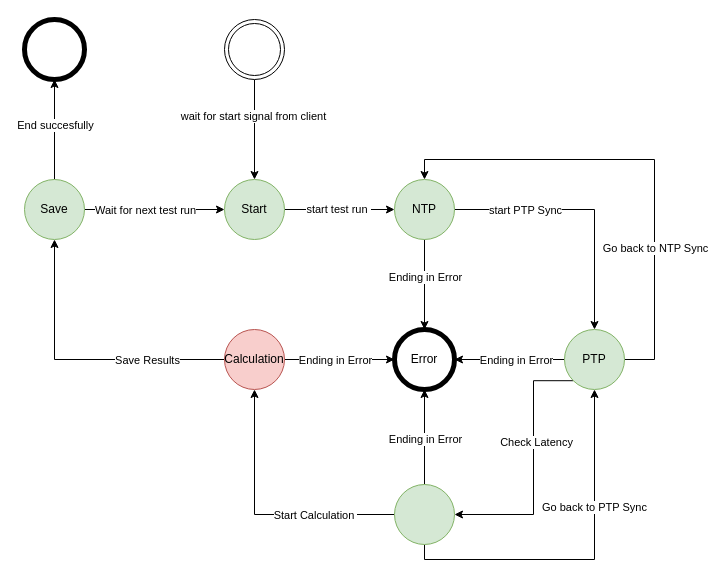
Some shapes in this 725 by 585 pixel diagram are drawn without their labels. The centre of each missing label's shape, as x and y in pixels:
"Check" belongs at (424,514).
"End" belongs at (54,49).
"Setup" belongs at (254,49).
